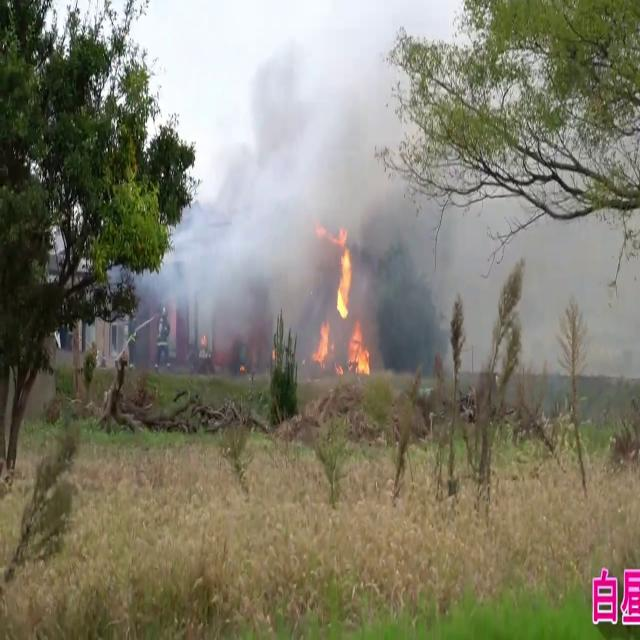Fire: (316, 229, 372, 379)
Smoke: (155, 2, 401, 370)
